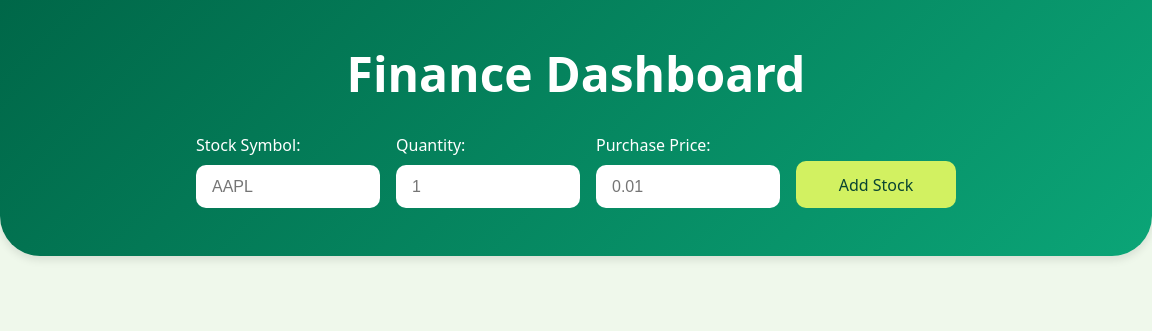
Test: StockForm component › shows error message on invalid stock symbol
Note: simulates changing input value, updating input state
Type "INVALID" into the field labelled "Stock Symbol:" at (288, 187), box [196,165,380,208]
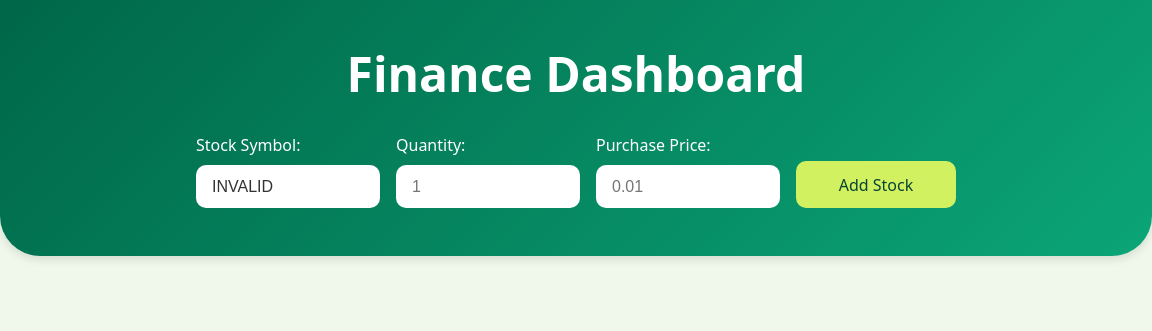
Type "2" into the number field labelled "Quantity:" at (488, 187), box [396,165,580,208]
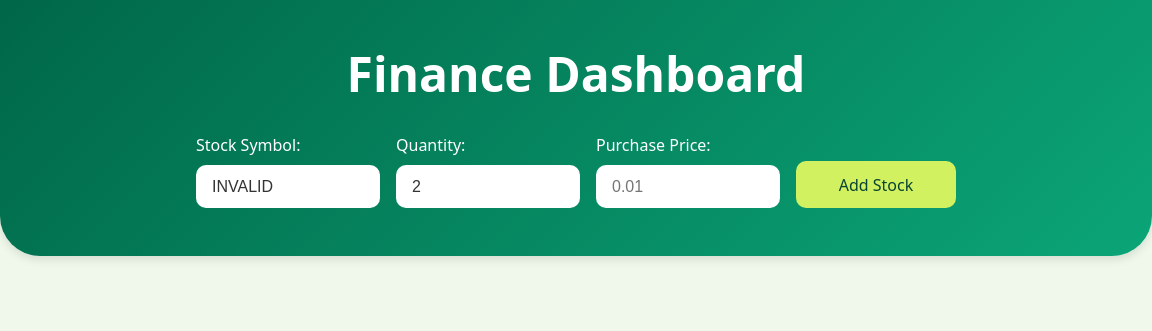
Type "10" into the number field labelled "Purchase Price:" at (688, 187), box [596,165,780,208]
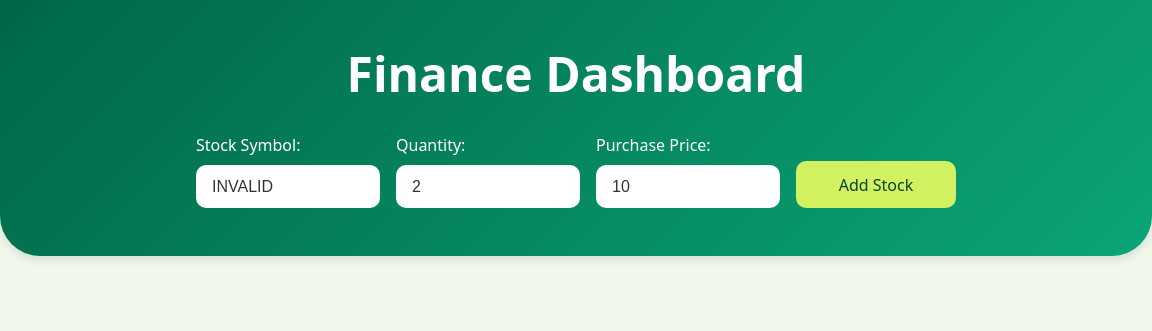
Click the button "Add Stock" at (876, 185), box [796,161,956,208]
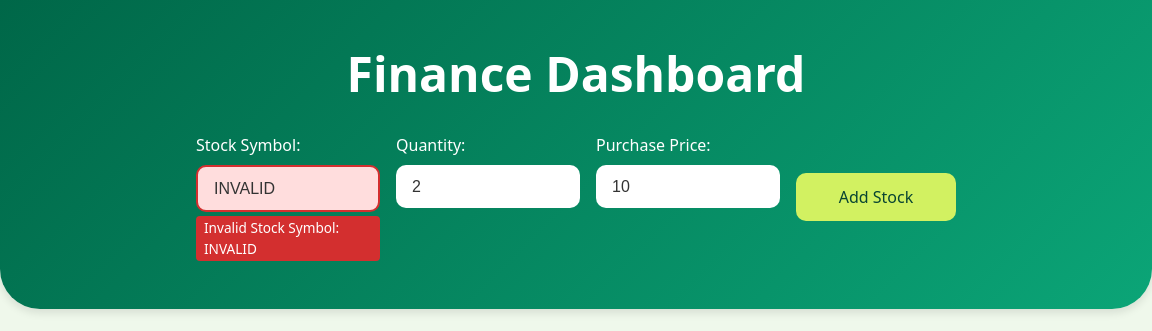
Check: the text "Invalid Stock Symbol: INVALID" is shown, box [196,216,380,261]
